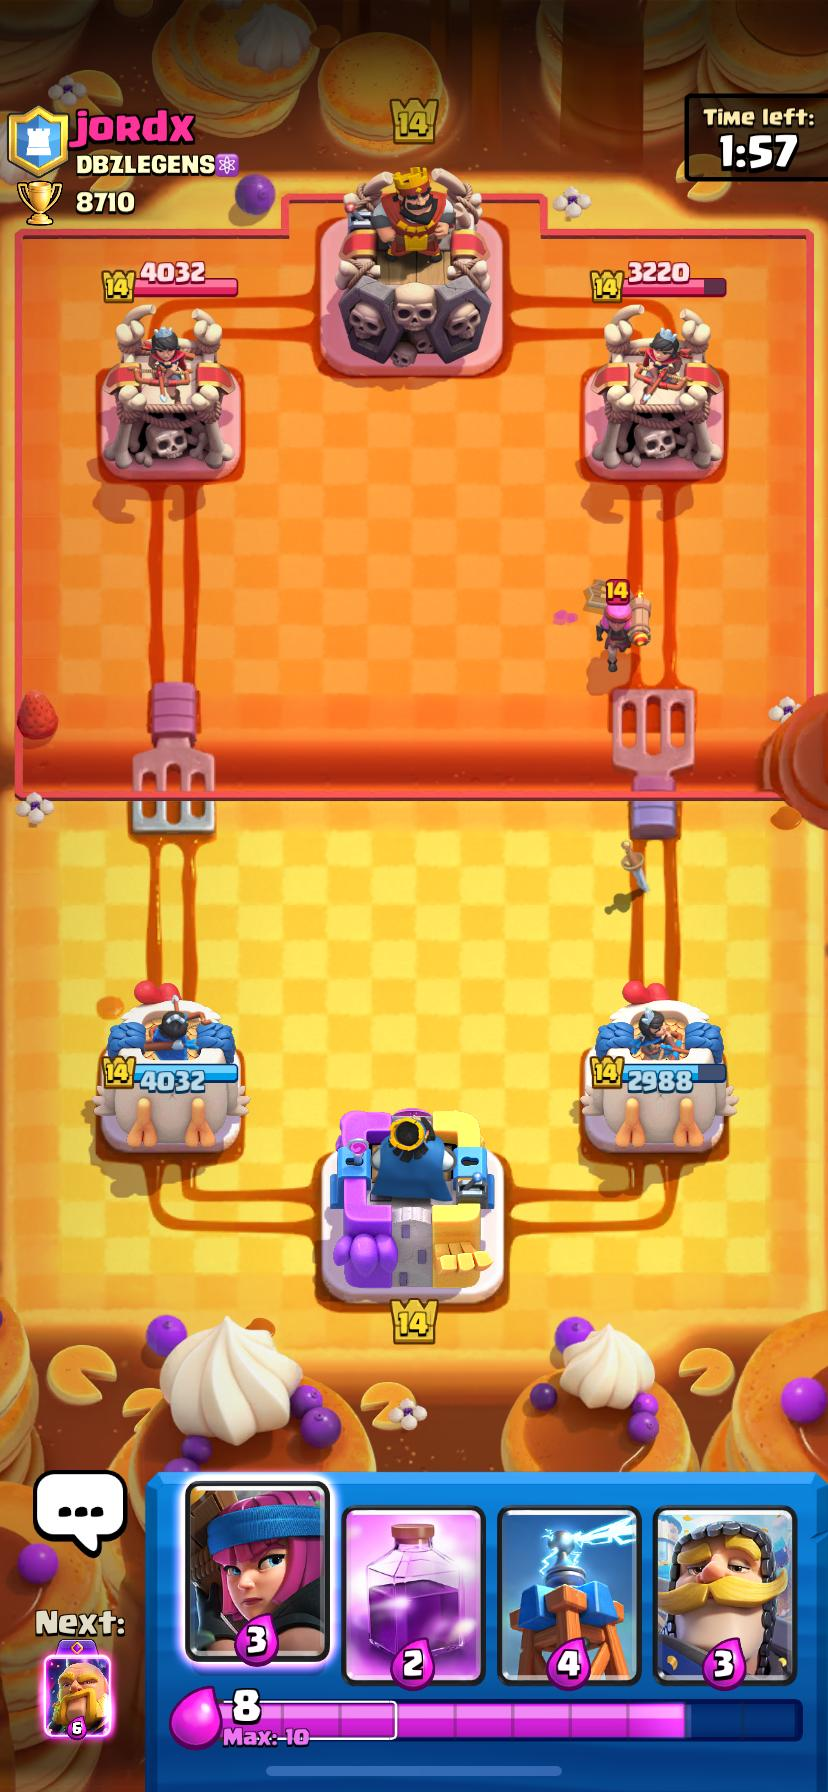EFirecrack: (587, 581, 650, 672)
EKingTower: (321, 168, 502, 375)
EnemyPrincessTower: (586, 304, 723, 479), (102, 306, 239, 479)
OwnKingTower: (321, 1109, 503, 1303)
OwnPrincessTower: (93, 983, 248, 1151), (581, 982, 735, 1151)
